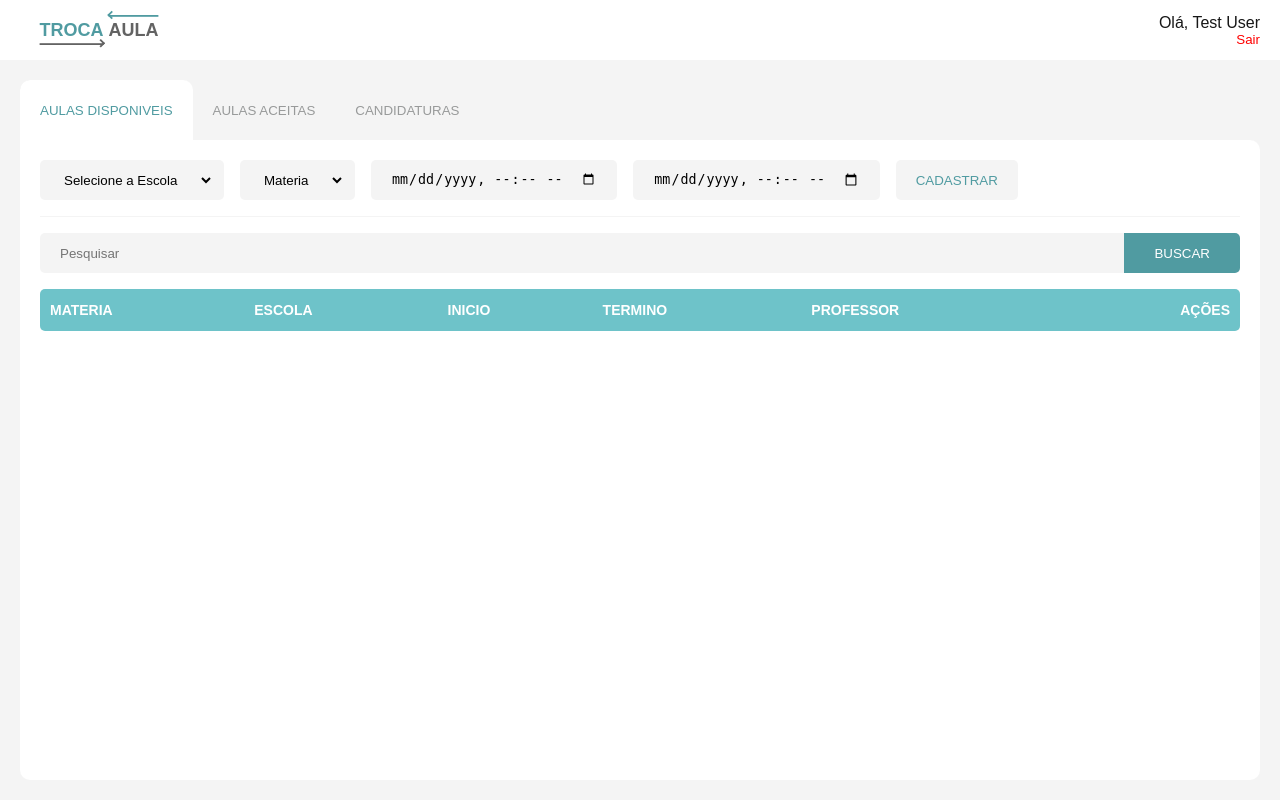
Dashboard Page › shows classes when profileId is not 3 and not "all"
Click the button "Aulas aceitas" at (264, 110), box [193,80,335,140]
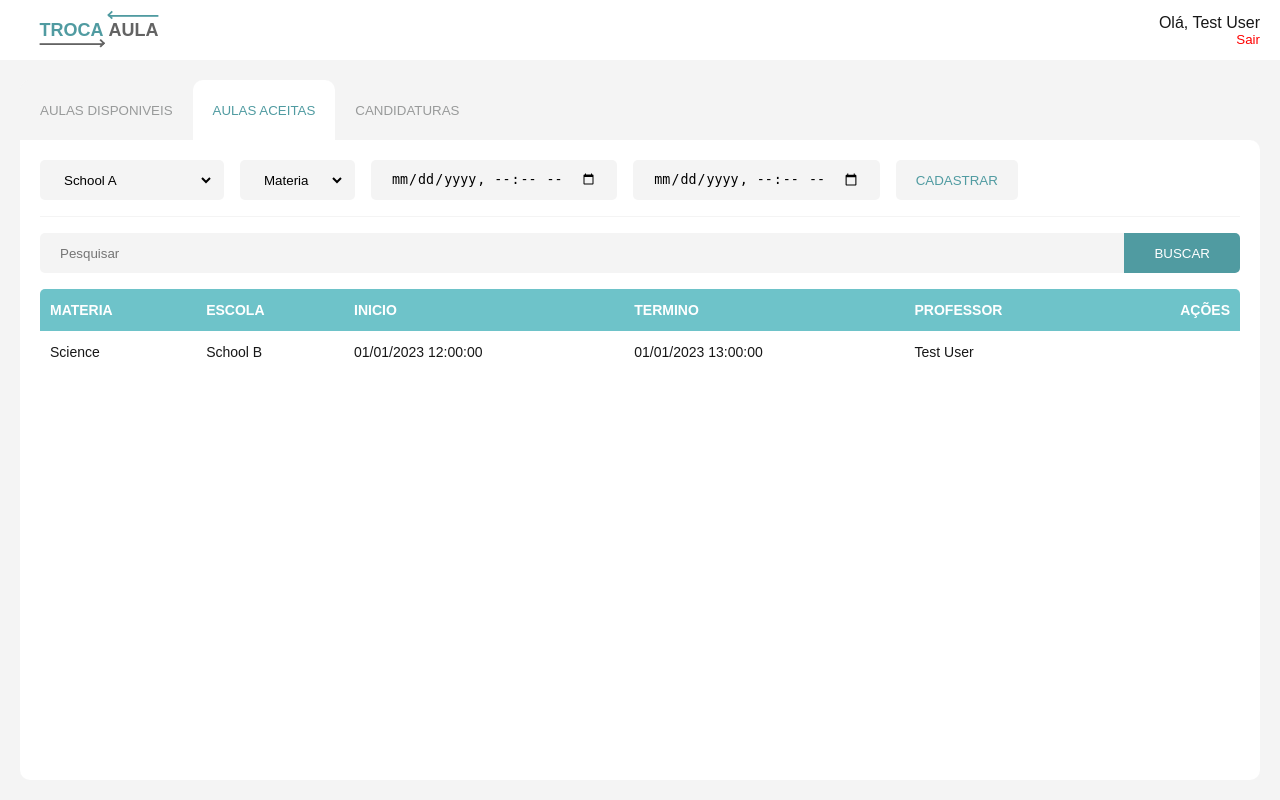
Result: the cell "Science" is shown at [40,331,196,373]
